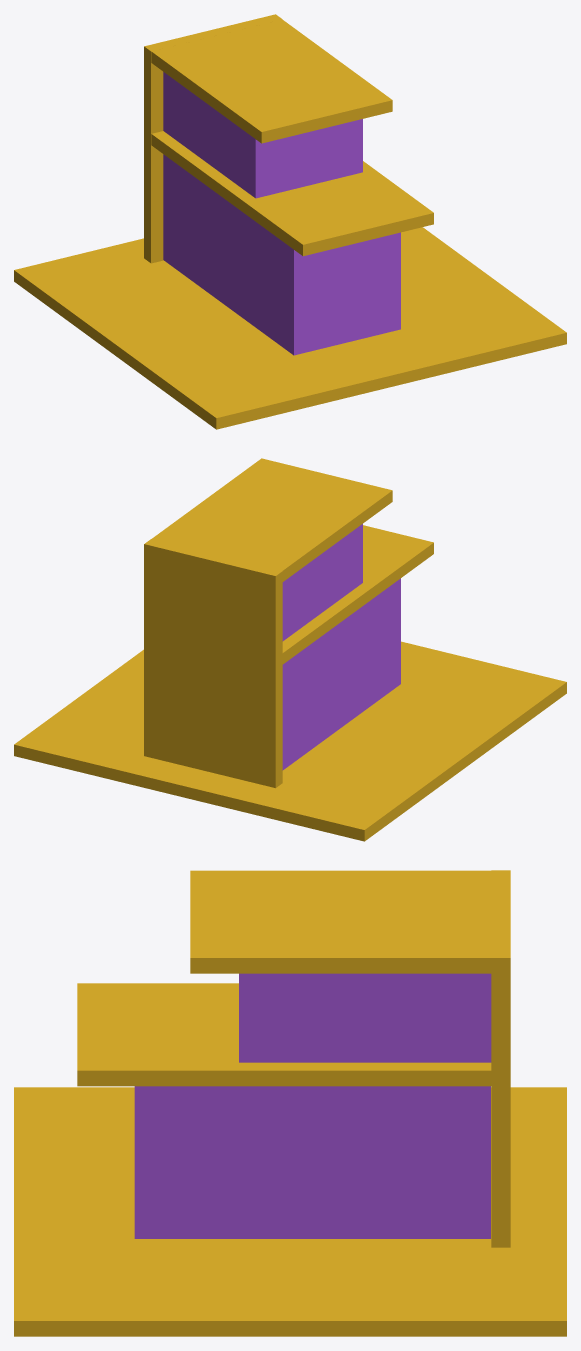
Rendered from house2.gltf.
3 renders of one model, top to bottom at view 1: azimuth 30°, elevation 25°; view 2: azimuth 150°, elevation 25°; view 3: azimuth 270°, elevation 25°, orthographic. The views are drawn at different scales.
Visible parts, largest first — view 1: Cube.5, Cube, Cube.3, Cube.2, Cube.1, Cube.4; view 2: Cube.5, Cube.4, Cube.3, Cube, Cube.2, Cube.1; view 3: Cube.5, Cube, Cube.3, Cube.2, Cube.1, Cube.4.
Part boxes in pixels (x1,y1,x2,y2): Cube.5: (14, 227, 566, 429); Cube: (163, 154, 400, 355); Cube.3: (151, 19, 392, 143); Cube.2: (151, 131, 433, 256); Cube.1: (163, 72, 362, 198); Cube.4: (144, 14, 282, 263); Cube.5: (14, 641, 566, 841); Cube.4: (144, 539, 282, 788); Cube.3: (152, 458, 392, 581); Cube: (282, 578, 400, 770); Cube.2: (282, 525, 433, 664); Cube.1: (282, 524, 362, 641); Cube.5: (14, 1087, 566, 1336); Cube: (134, 1086, 490, 1238); Cube.3: (190, 870, 491, 973); Cube.2: (77, 983, 491, 1086); Cube.1: (239, 973, 491, 1062); Cube.4: (491, 870, 510, 1247).
Bounding box in the file's own units: 130 × 79.22 × 130.
